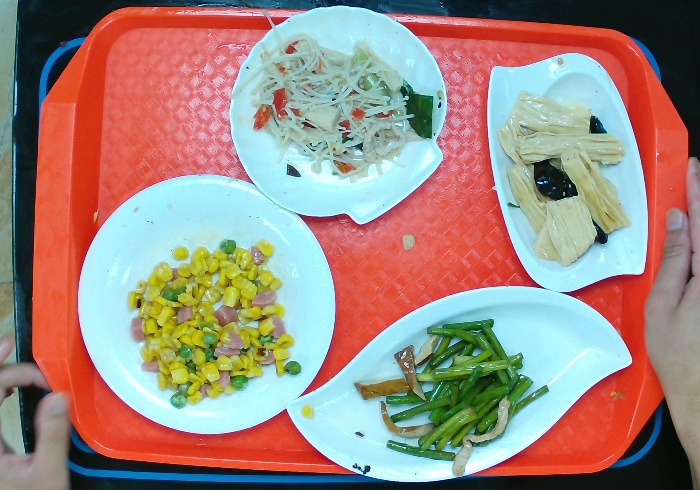RJxy-Bei_Ke_Wan: (228, 4, 449, 226)
RJxy-Jian_Jiao_Fang_Die: (485, 50, 651, 293)
RJxy-Jian_Jiao_Pan: (284, 284, 635, 485)
RJxy-Yuan_Pan: (75, 172, 338, 435)
